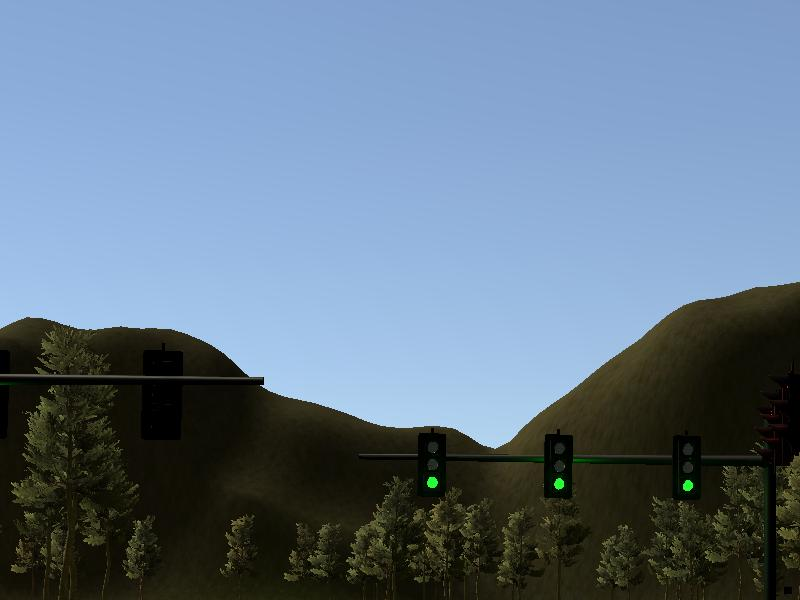green: (671, 432, 703, 499), (543, 433, 574, 499), (416, 431, 446, 497)
